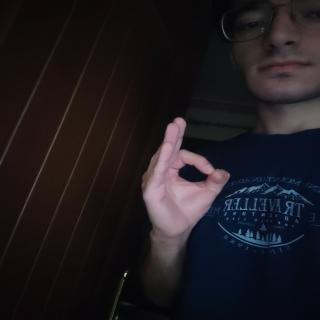Space: (138, 110, 231, 240)
